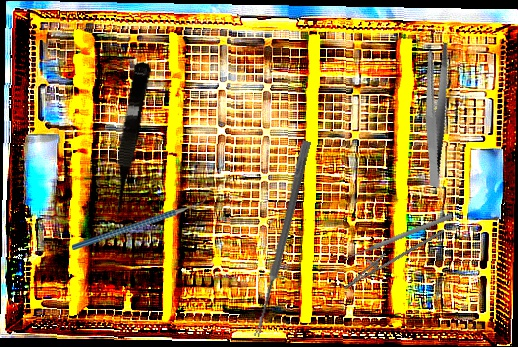Chopper: (72, 191, 211, 250)
Dressing Forceps: (390, 38, 481, 189)
Micro Scissor: (103, 59, 153, 225)
Needle Holder: (338, 211, 446, 301)
Pusher: (341, 212, 454, 263)
Surgical Spoon: (252, 139, 312, 339)
